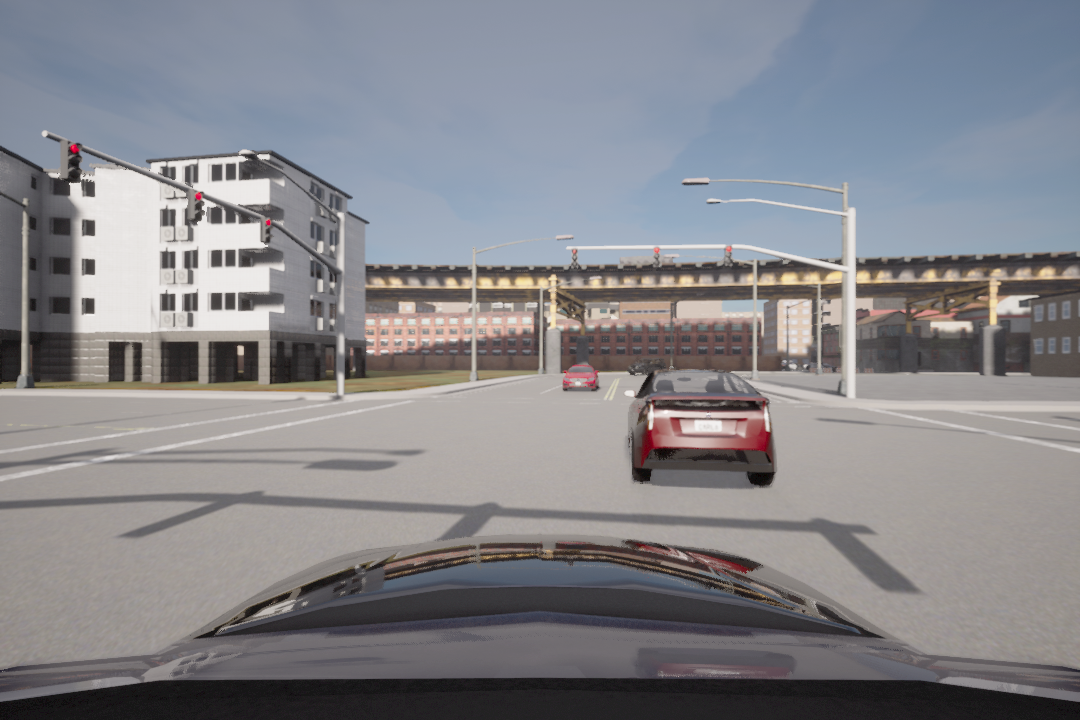TrafficLight: (61, 141, 82, 184), (184, 187, 204, 224), (260, 214, 273, 246), (652, 246, 664, 269), (723, 242, 733, 266), (571, 247, 581, 269)
